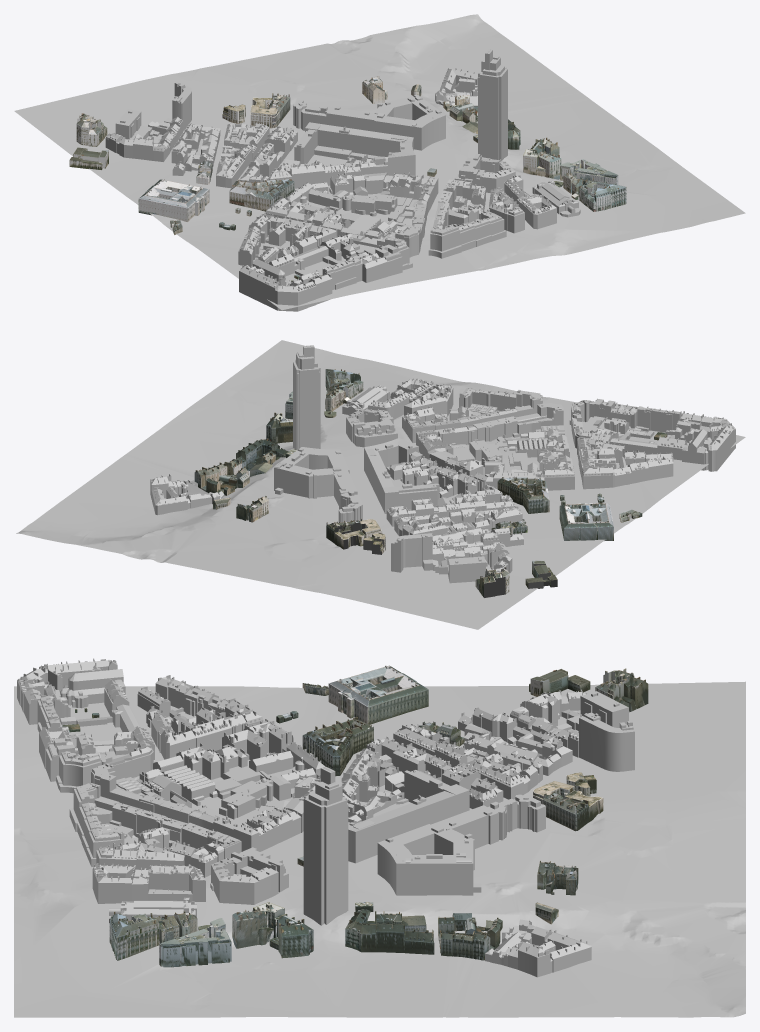
The model's file is maquetteNantes.FBX.
The picture shows the model from 3 angles, top to bottom: view 1: azimuth 30°, elevation 25°; view 2: azimuth 150°, elevation 25°; view 3: azimuth 270°, elevation 25°; orthographic projection. The views are drawn at different scales.
Parts seen in each view (by area): view 1: 3552_66900, 3552_66896, 3550_66900, 3552_66898, 3548_66900, object_179, 3550_66896, object_138, object_137, 3548_66898, object_215, object_180 (+37 smaller); view 2: 3550_66900, 3552_66900, 3548_66900, 3552_66898, 3552_66896, object_138, object_137, object_179, 3548_66898, object_215, object_180, object_221 (+41 smaller); view 3: 3552_66900, 3550_66900, 3552_66896, 3552_66898, 3548_66900, object_137, object_138, 3550_66896, object_179, 3548_66898, object_251, object_321 (+46 smaller).
Part boxes in pixels (box(x1,y1,x2,y2)): 3552_66900: box(324, 14, 566, 107); 3552_66896: box(516, 147, 745, 248); 3550_66900: box(169, 44, 398, 133); 3552_66898: box(435, 82, 656, 174); 3548_66900: box(14, 75, 234, 179); object_179: box(239, 233, 412, 311); 3550_66896: box(347, 189, 590, 278); object_138: box(266, 172, 437, 239); object_137: box(266, 172, 438, 257); 3548_66898: box(103, 147, 346, 245); object_215: box(269, 127, 415, 188); object_180: box(239, 233, 412, 292); 3550_66900: box(169, 498, 398, 593); 3552_66900: box(16, 470, 257, 563); 3548_66900: box(324, 546, 566, 629); 3552_66898: box(104, 405, 346, 497); 3552_66896: box(193, 340, 435, 434); object_138: box(416, 403, 574, 481); object_137: box(416, 405, 574, 490); object_179: box(569, 399, 735, 471); 3548_66898: box(474, 469, 655, 567); object_215: box(364, 445, 502, 513); object_180: box(570, 398, 735, 453); object_221: box(391, 532, 512, 583); 3552_66900: box(502, 899, 745, 1017); 3550_66900: box(502, 786, 745, 900); 3552_66896: box(14, 903, 257, 1017); 3552_66898: box(258, 899, 501, 1017); 3548_66900: box(502, 681, 745, 789); object_137: box(91, 719, 321, 851); object_138: box(91, 718, 324, 835); 3550_66896: box(14, 796, 222, 911); object_179: box(17, 659, 154, 793); 3548_66898: box(258, 686, 501, 792); object_251: box(377, 797, 545, 895); object_321: box(303, 768, 348, 925).
Bounding box in the file's own units: 616 × 600 × 139.
